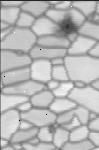good_void: (56, 15, 81, 37), (12, 44, 27, 58), (47, 121, 60, 134), (87, 11, 99, 23)
